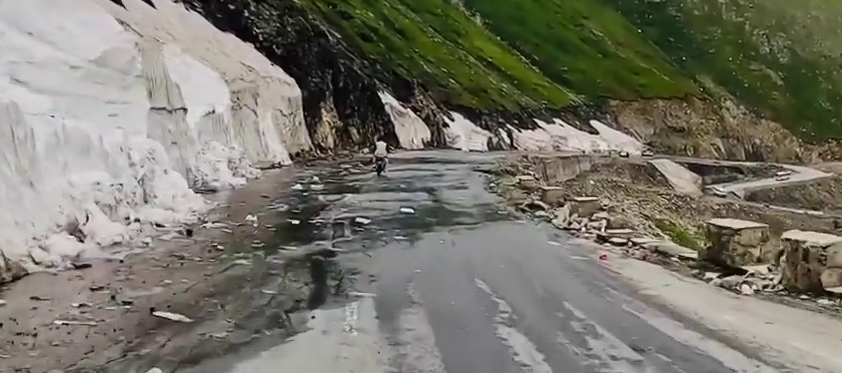unexpected: (330, 129, 768, 279)
